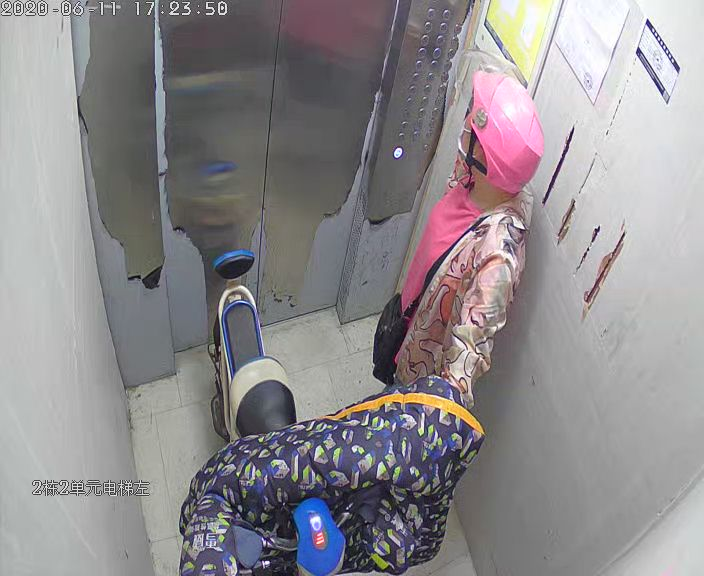Electric-bicycle: (201, 249, 447, 576)
